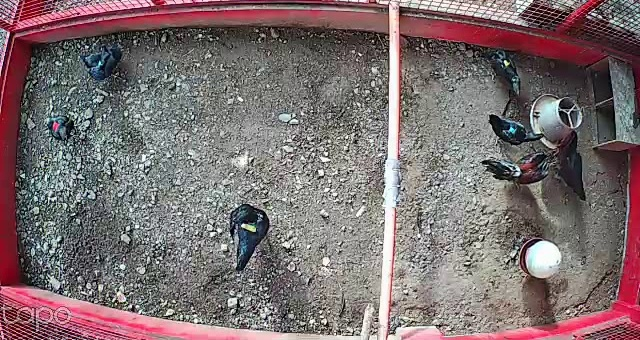Chicken: (223, 198, 272, 270), (549, 130, 586, 201), (484, 110, 545, 149), (482, 47, 524, 98), (79, 45, 131, 85), (41, 113, 78, 145)
Rooster: (480, 151, 559, 191)
Saddle_Color_Blue: (508, 126, 516, 134)
Saddle_Color_Red: (53, 121, 60, 132)
Saddle_Color_Yellow: (501, 59, 510, 67)
Saddle_Color_YellowGreen: (239, 220, 258, 234)
